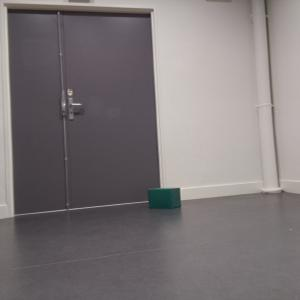small: (147, 185, 182, 212)
